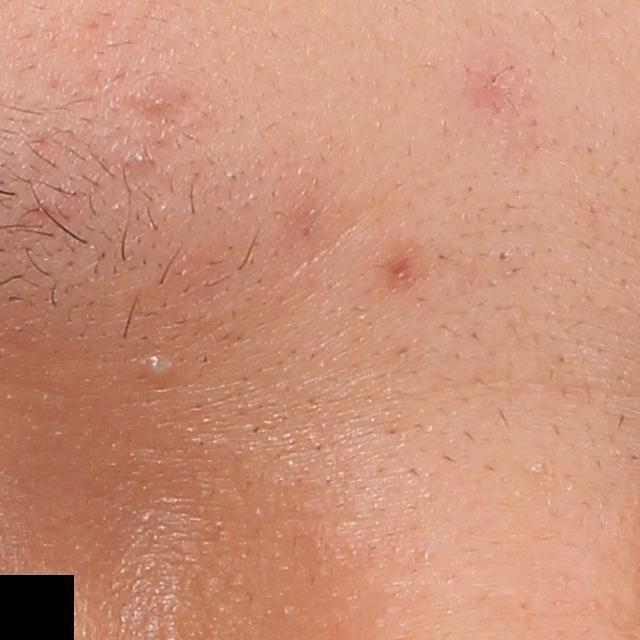comedo: (127, 146, 162, 173), (493, 246, 515, 266)
other: (130, 342, 193, 391)
